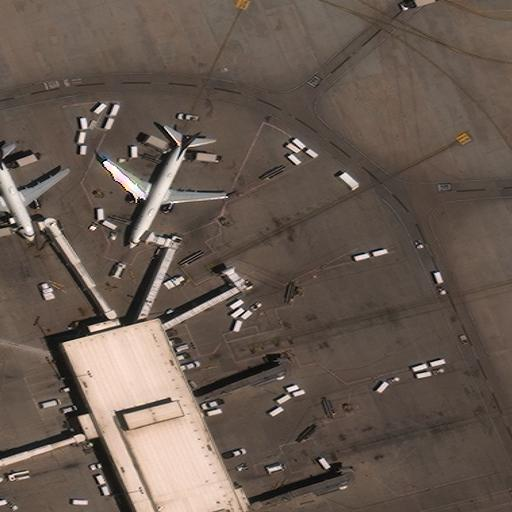Medium Civil Transport: (102, 130, 226, 249), (0, 149, 69, 242)
